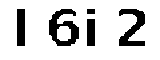2: (109, 4, 147, 50)
6: (44, 8, 82, 49)
i: (83, 3, 102, 53)
l: (9, 5, 35, 52)
